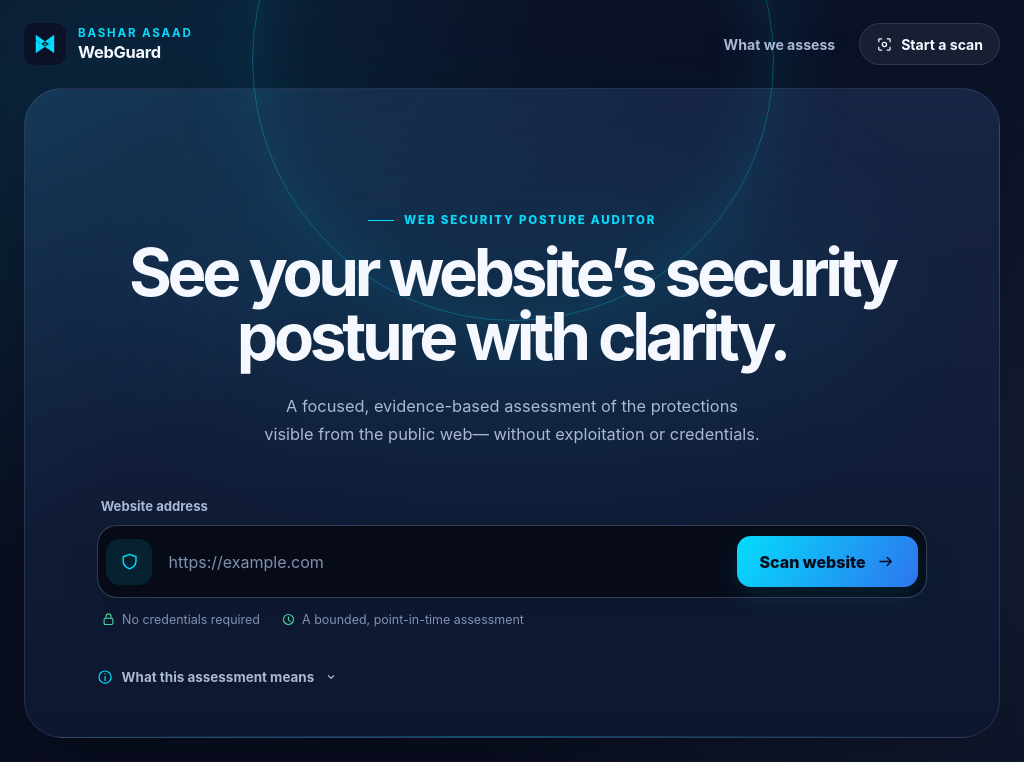
Test: WebGuard application flow › submits the exact URL without frontend normalization
Type "https://example.com/path?view=1" into the field labelled "Website address" at {"x": 445, "y": 562}, box [164, 534, 725, 588]
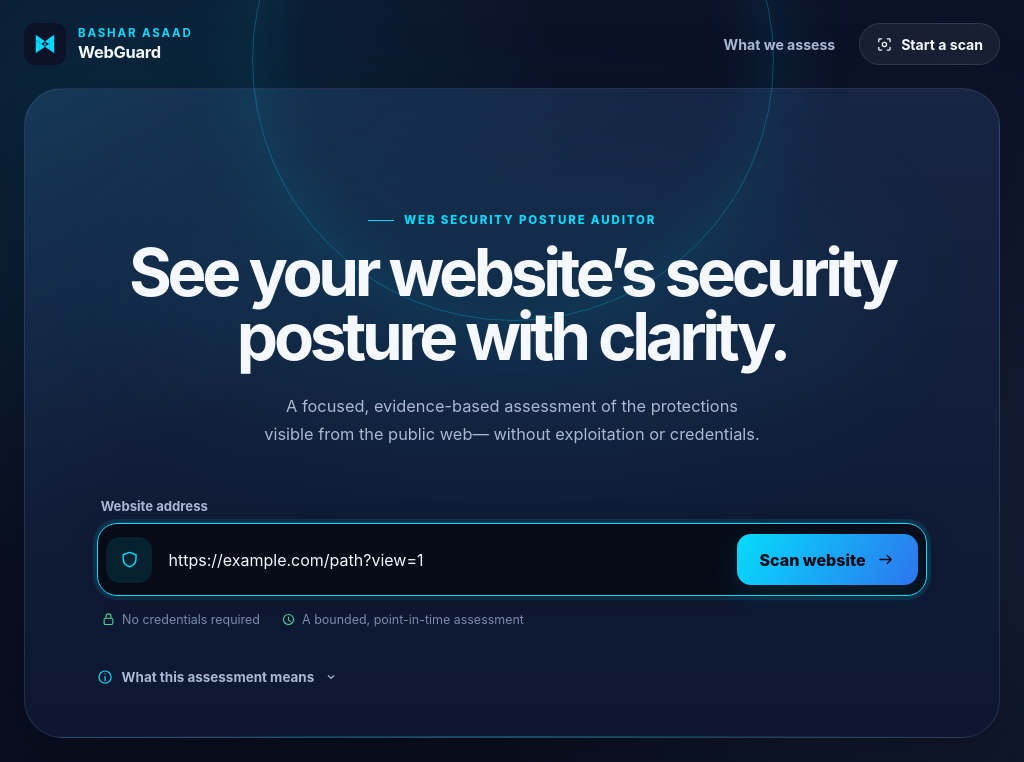
Click the button "Scan website" at {"x": 827, "y": 560}, box [737, 534, 918, 585]
(page scrolled)
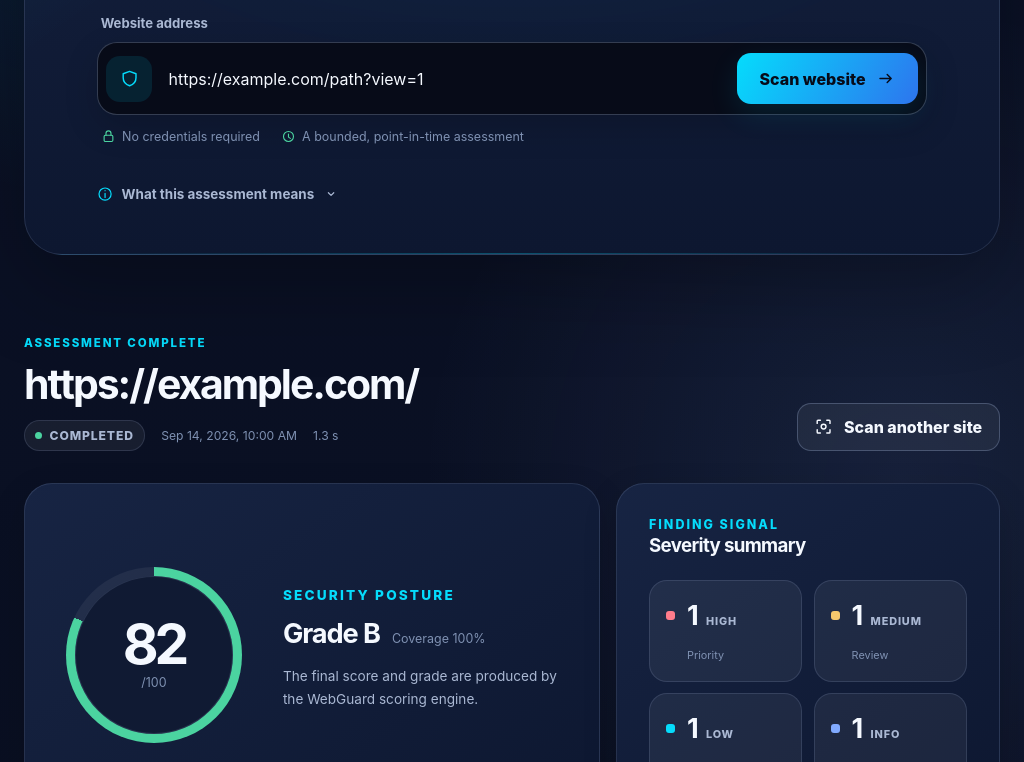
Now the heading "https://example.com/" is shown, box [24, 363, 418, 406]
